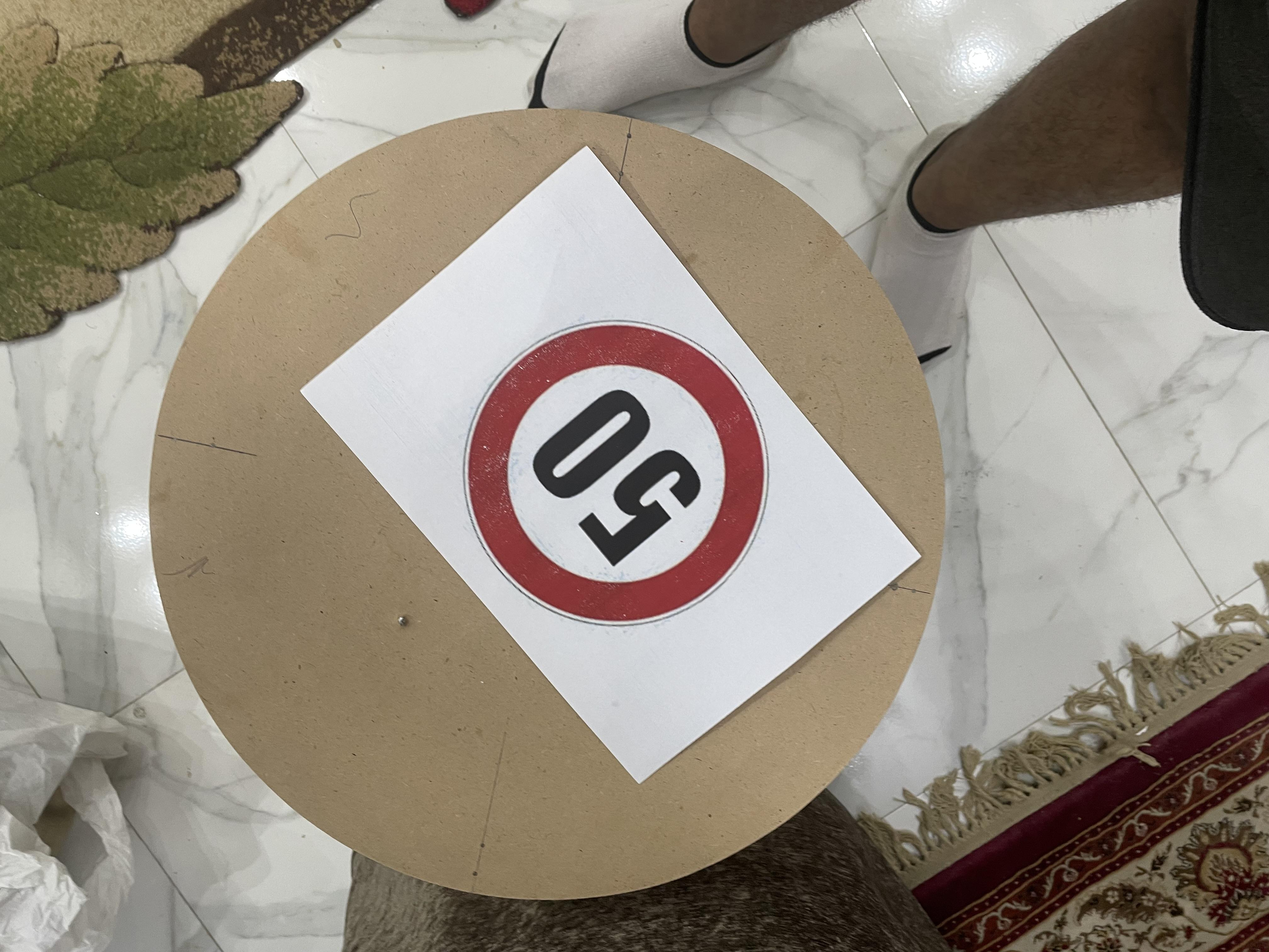50-Speed: (429, 343, 855, 579)
